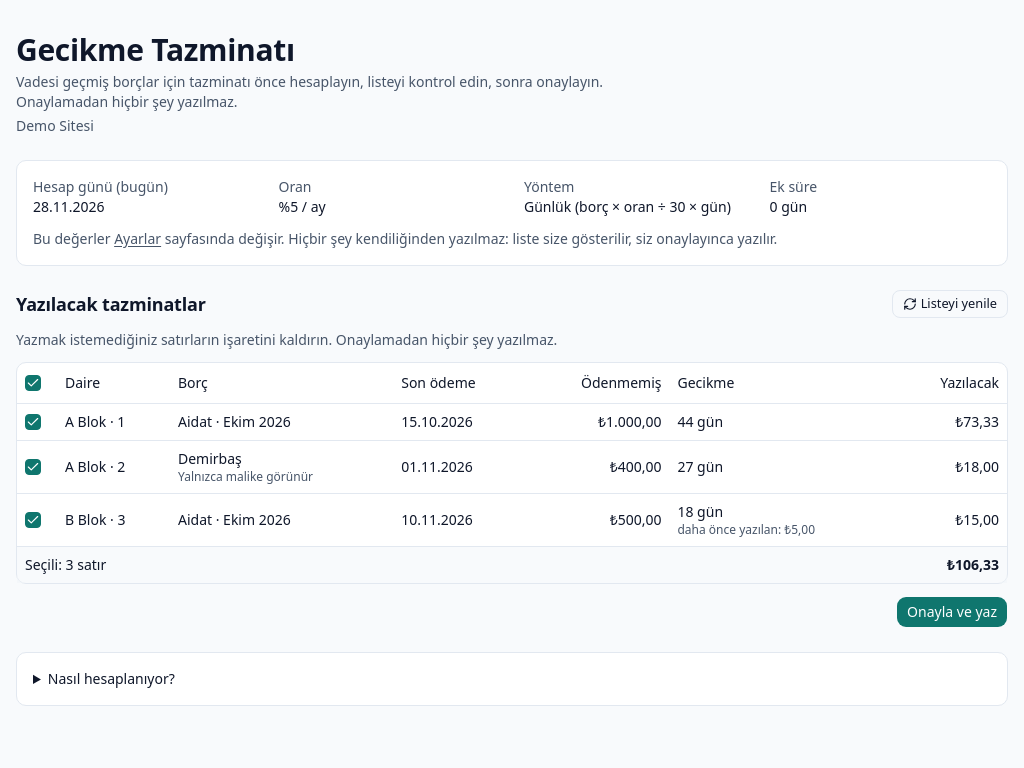
Gecikme Tazminatı: approve › asks first and says how many lines and how much, and what undo means
This screenshot has width=1024, height=768.
Expected: the text "A Blok · 1" is shown, [57,403,170,440]
Click the button "Onayla ve yaz" at (952, 612), box [896,596,1008,628]
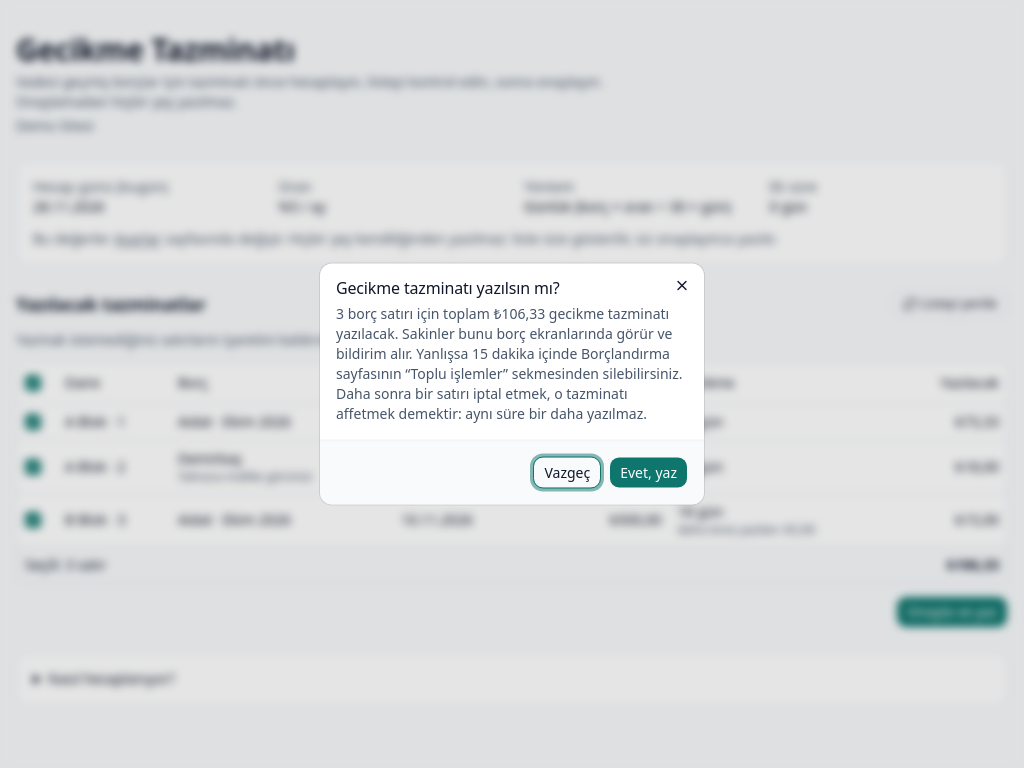
Expected: the heading "Gecikme tazminatı yazılsın mı?" is shown, [336,276,560,298]
Expected: the text "affetmek demektir" is shown, [336,304,683,422]
